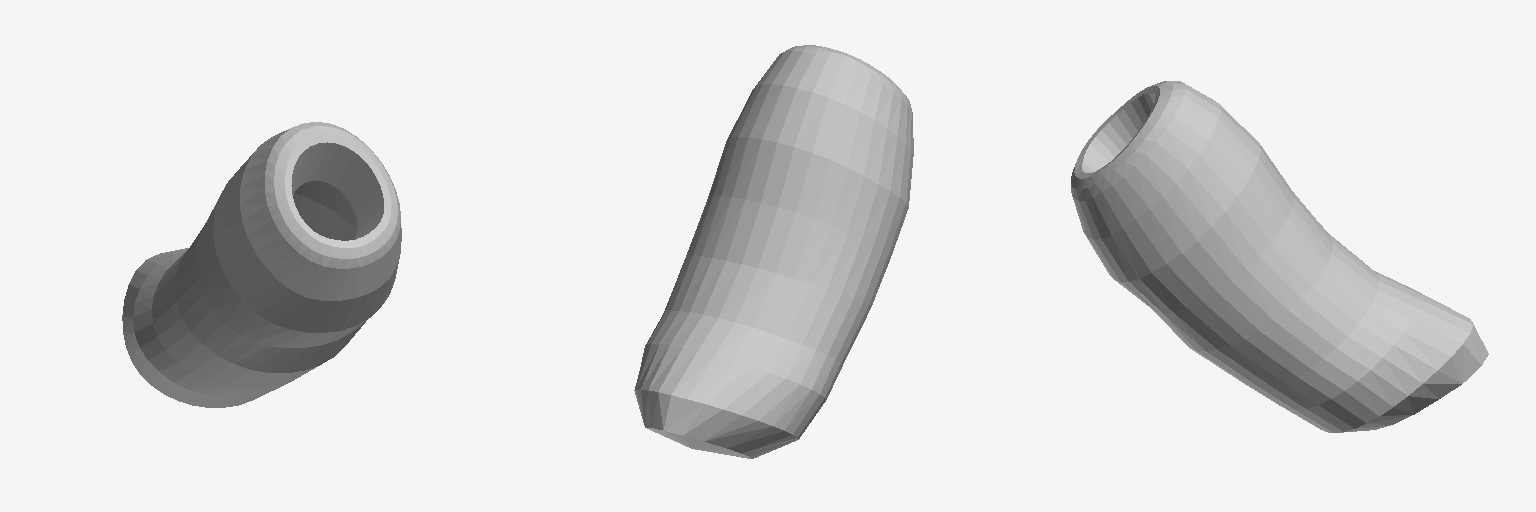
File: Anthro shith in.obj
3 views of the same model, side by side, from view 1: azimuth 30°, elevation 25°; view 2: azimuth 150°, elevation 25°; view 3: azimuth 270°, elevation 25° (orthographic).
Visible parts, largest first — view 1: dick_in_sheath.007_horsecock.003; view 2: dick_in_sheath.007_horsecock.003; view 3: dick_in_sheath.007_horsecock.003.
Boxes of the visible parts, <box> form: dick_in_sheath.007_horsecock.003: <box>122,122,401,407</box>; dick_in_sheath.007_horsecock.003: <box>634,45,913,458</box>; dick_in_sheath.007_horsecock.003: <box>1071,81,1488,432</box>.
Bounding box in the file's own units: 2.5 × 4.72 × 5.34.